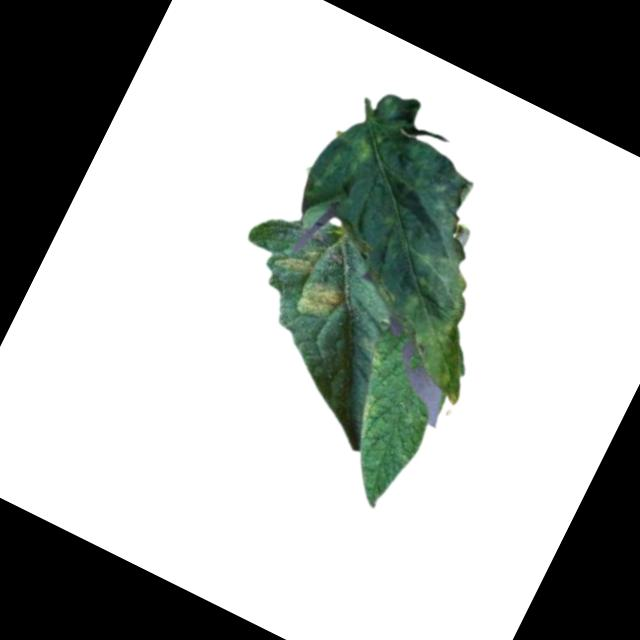Leaf_Mold: (243, 69, 577, 411), (268, 233, 325, 286), (292, 272, 346, 325), (345, 390, 387, 443)
